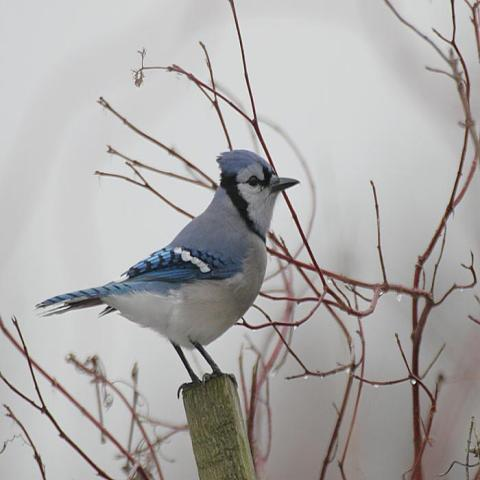bird: (34, 145, 300, 399)
